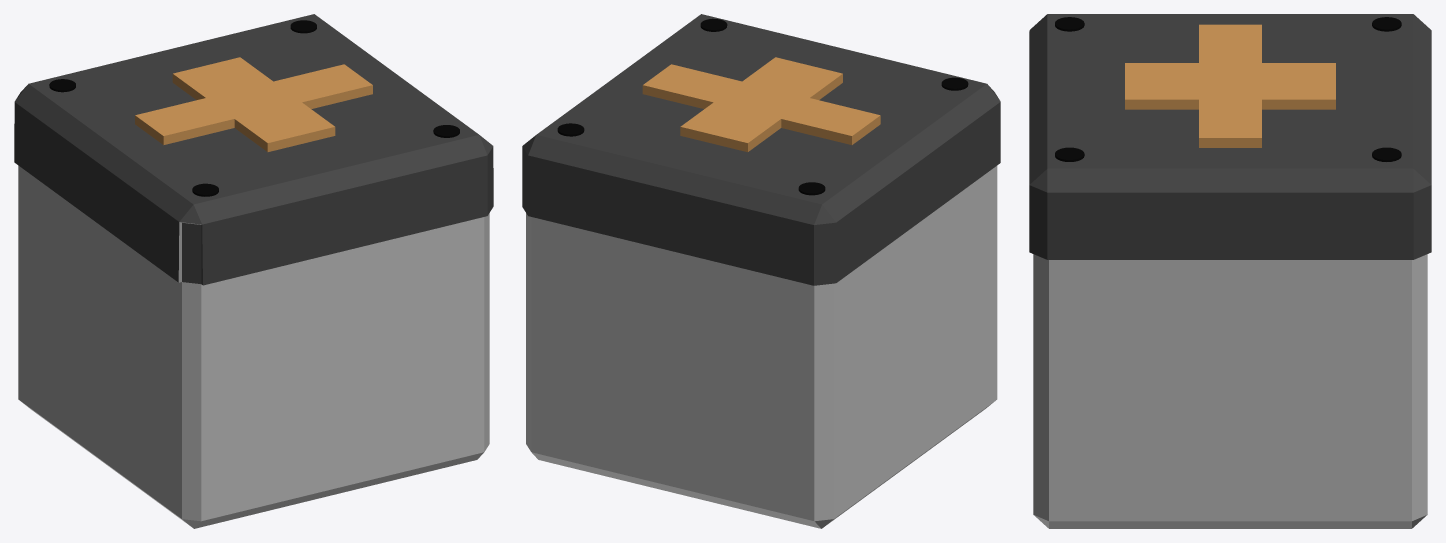
The model's file is caja positiva.fbx.
3 views of the same model, side by side, from view 1: azimuth 30°, elevation 25°; view 2: azimuth 150°, elevation 25°; view 3: azimuth 270°, elevation 25° (orthographic). The views are drawn at different scales.
Visible parts, largest first — view 1: pCube5; view 2: pCube5; view 3: pCube5.
Part boxes in pixels (box(x1,y1,x2,y2)): pCube5: box(14, 14, 493, 528); pCube5: box(522, 14, 1000, 528); pCube5: box(1029, 14, 1431, 528).
Bounding box in the file's own units: 3.01 × 3.07 × 3.01.
